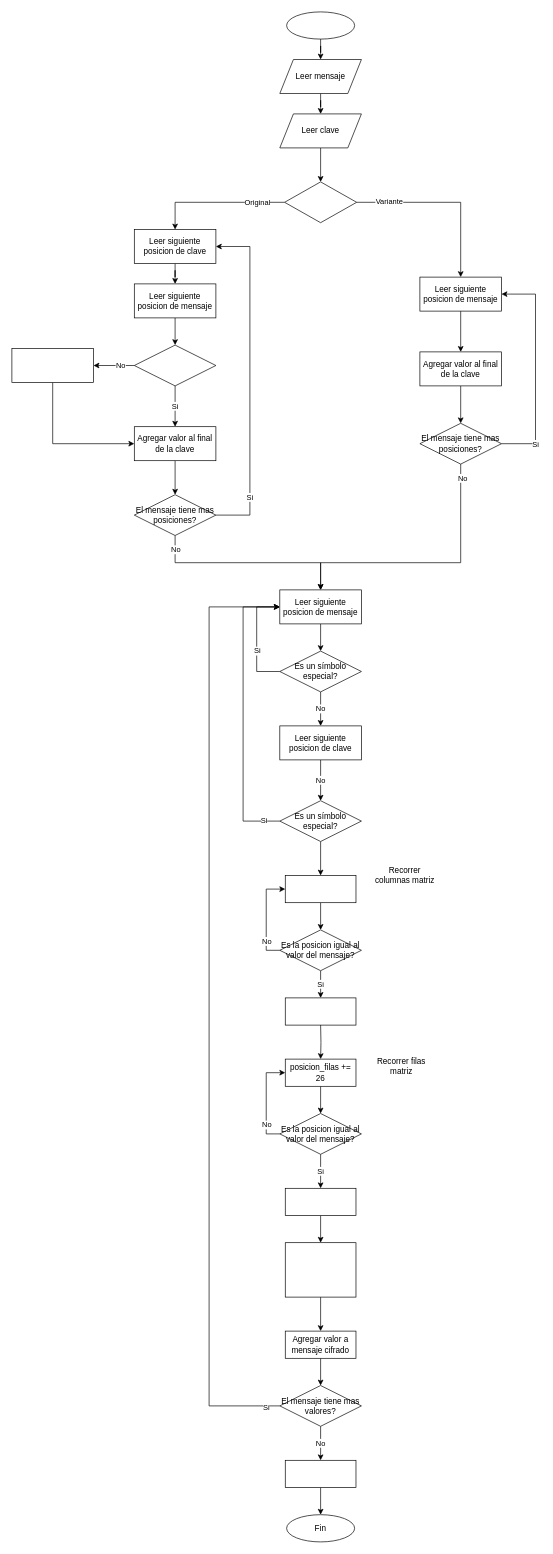
The diagram is 553 pixels wide and 1554 high, and some of its shapes have lost their labels. The centre of each missing label's shape, as x and y in pixels:
"Acceder a posicion [i, j] Valor = Posicion(26*i + j)" goes at point (320, 1269).
"Algoritmo?" goes at point (320, 202).
"Colocar puntero en primera posicion de clave" goes at point (52, 365).
"i = posicion_filas" goes at point (320, 1202).
"Imprimir mensaje cifrado" goes at point (320, 1474).
"Inicio" goes at point (320, 25).
"j = posicion_columna" goes at point (320, 1011).
"La clave tiene mas posiciones?" goes at point (175, 365).
"posicion_columna += 1" goes at point (320, 889).
